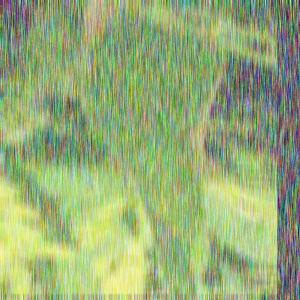Leaf_Blast: (138, 43, 220, 215)
